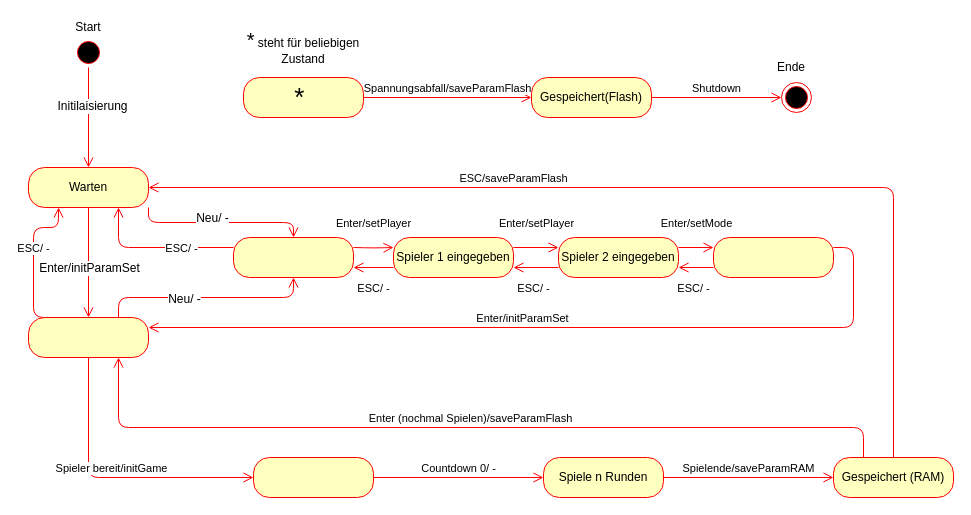
The diagram is 971 pixels wide and 515 high, and some of its shapes have lost their labels. The shapes that lost their labels are listed below. From the top down, each one's box as (x1, y1, x2, y2) in pixels, then its label:
(232, 236, 354, 278): Parametersatz neu Erstellen
(712, 236, 834, 278): Spielmodus gewählt
(28, 316, 148, 358): Parametersatz geladen
(252, 456, 374, 498): Countdown zählen
